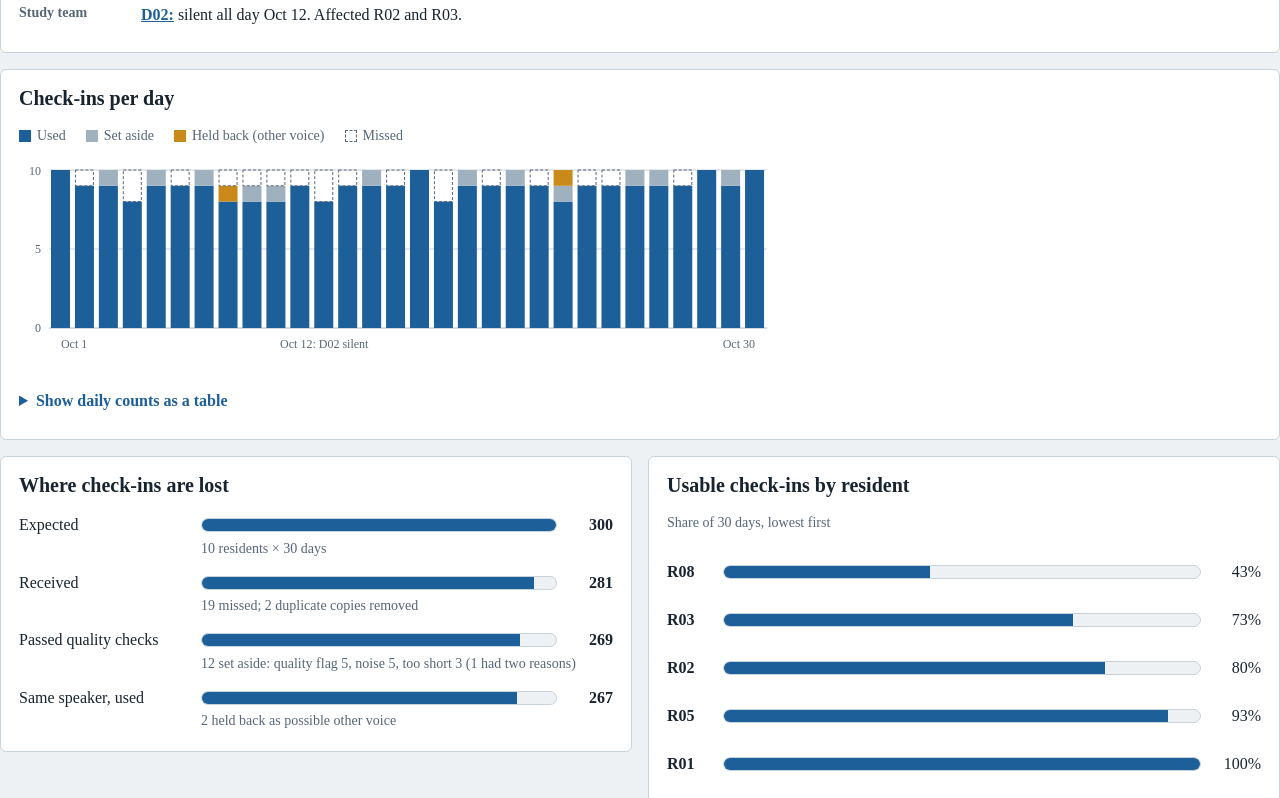
Test case: Study team page (test profile, DS-07) › renders the daily chart name, x labels and table alternative (UX-356..UX-360, UX-381)
(page scrolled)
Expected: the heading "Check-ins per day" is shown, [19,87,174,109]
Expected: the list items read "Used", "Set aside", "Held back (other voice)", "Missed", in this order, [19,126,66,146]; [86,126,154,146]; [174,126,324,146]; [344,126,403,146]
Click the heading "Show daily counts as a table": [132, 401] box [36,392,228,409]
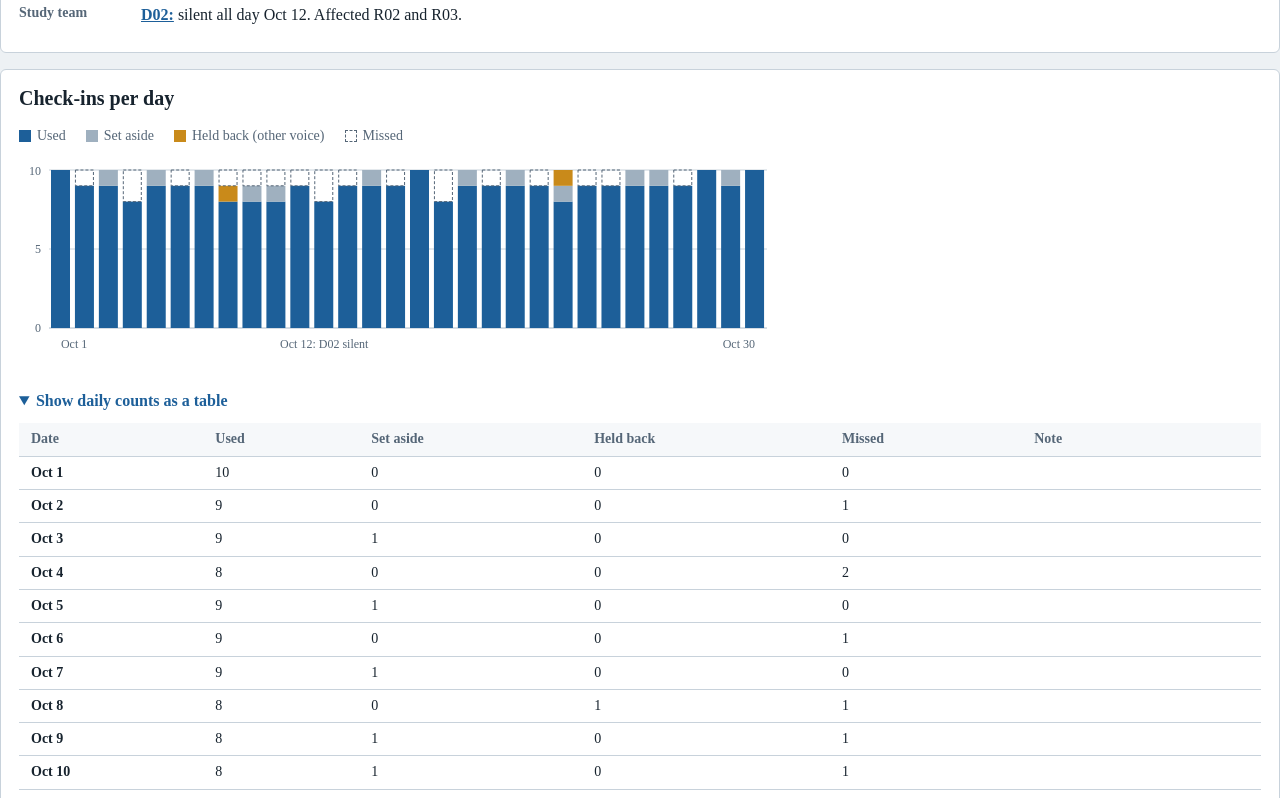
Now the column headings read "Date", "Used", "Set aside", "Held back", "Missed", "Note", in this order, box [19,424,203,456]; [203,424,359,456]; [359,424,582,456]; [582,424,830,456]; [830,424,1022,456]; [1022,424,1261,456]
